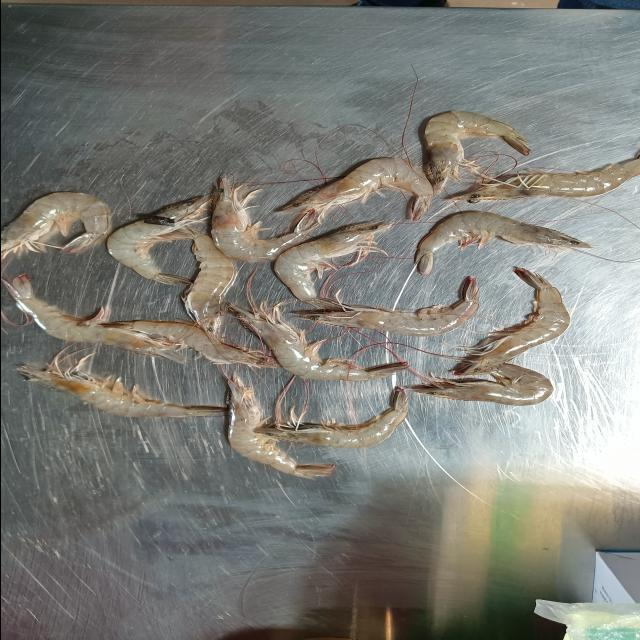shrimp: (7, 274, 186, 362), (226, 302, 408, 381), (16, 351, 226, 418), (452, 268, 569, 375), (414, 211, 594, 275), (226, 376, 335, 479), (292, 276, 478, 336), (279, 158, 432, 221), (273, 221, 392, 302), (447, 155, 640, 204), (253, 388, 408, 449), (211, 176, 319, 262), (107, 196, 211, 285), (423, 111, 529, 194), (100, 320, 277, 368), (0, 192, 111, 259), (403, 364, 551, 406), (182, 230, 235, 334)
